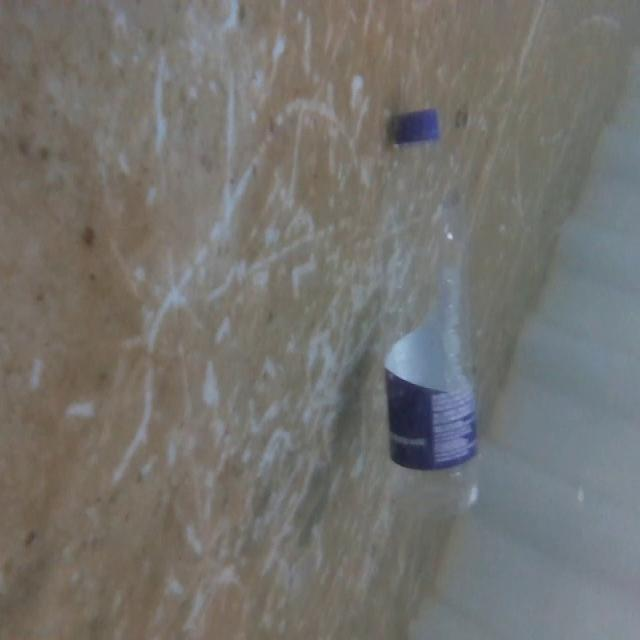plastic bottle: (378, 95, 490, 525)
